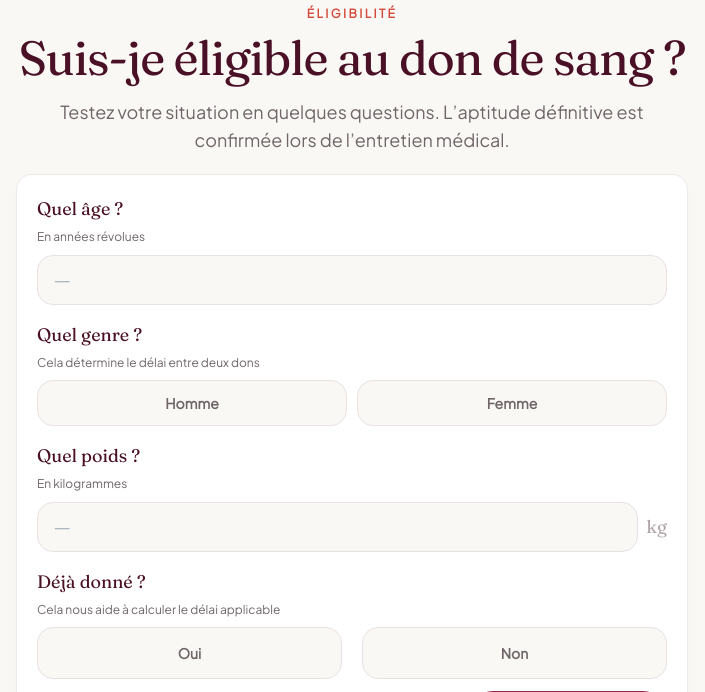
Scenario: EligibilitySimulator › demande la date si l’utilisateur a déjà donné
Type "30" into the number field labelled "Quel âge ?".
click(352, 280); type("30")  # box x1=37 y1=254 x2=667 y2=304
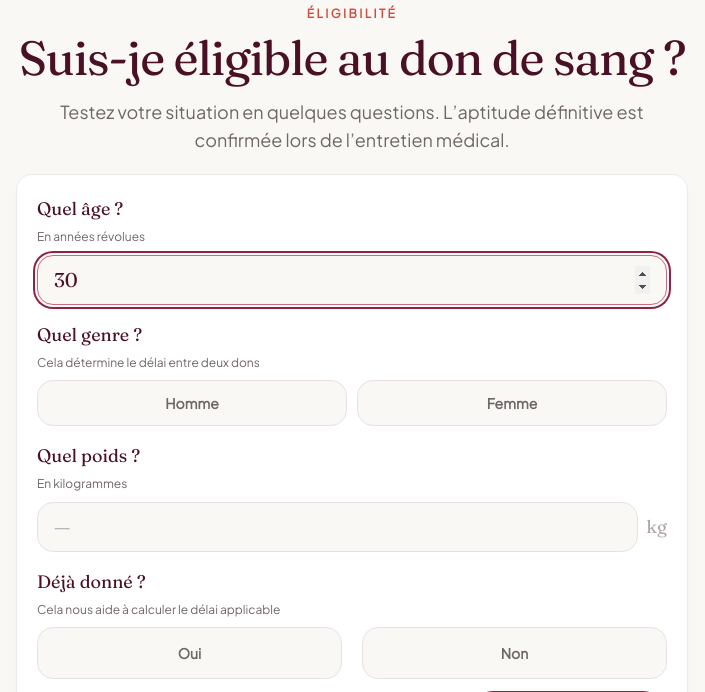
Click the button "Homme".
click(192, 403)  # box x1=37 y1=380 x2=347 y2=426
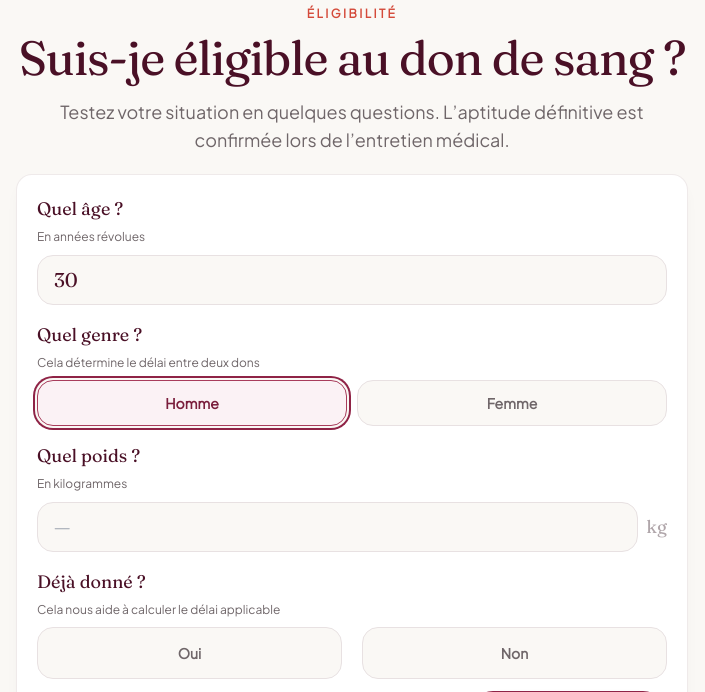
Type "70" into the number field labelled "Quel poids ?".
click(338, 526); type("70")  # box x1=37 y1=502 x2=638 y2=552
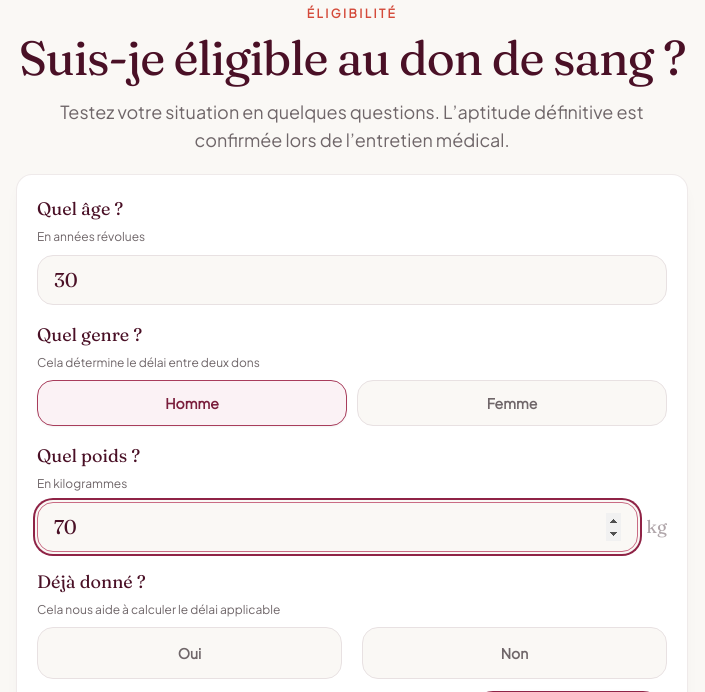
Click the button "Oui".
click(190, 653)  # box x1=37 y1=627 x2=342 y2=679
(page scrolled)
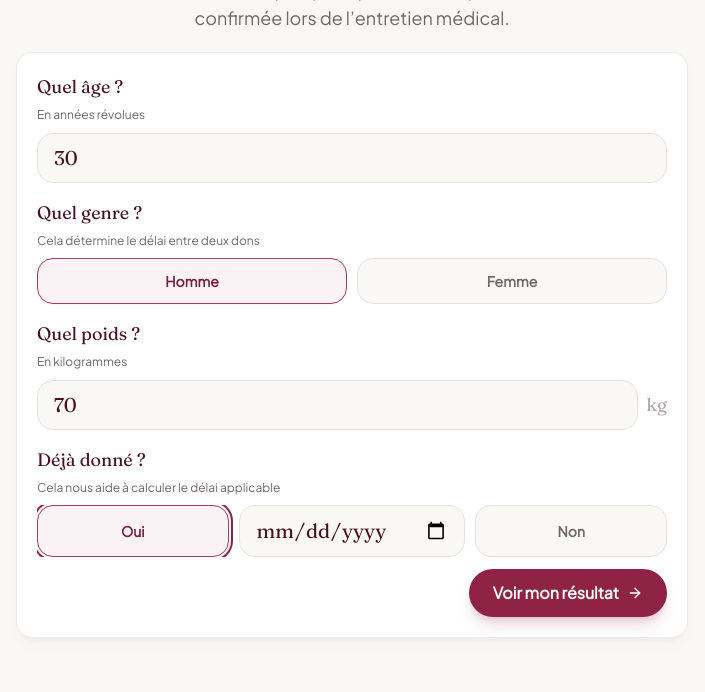
Click the button "Voir mon résultat".
click(568, 593)  # box x1=469 y1=569 x2=667 y2=617
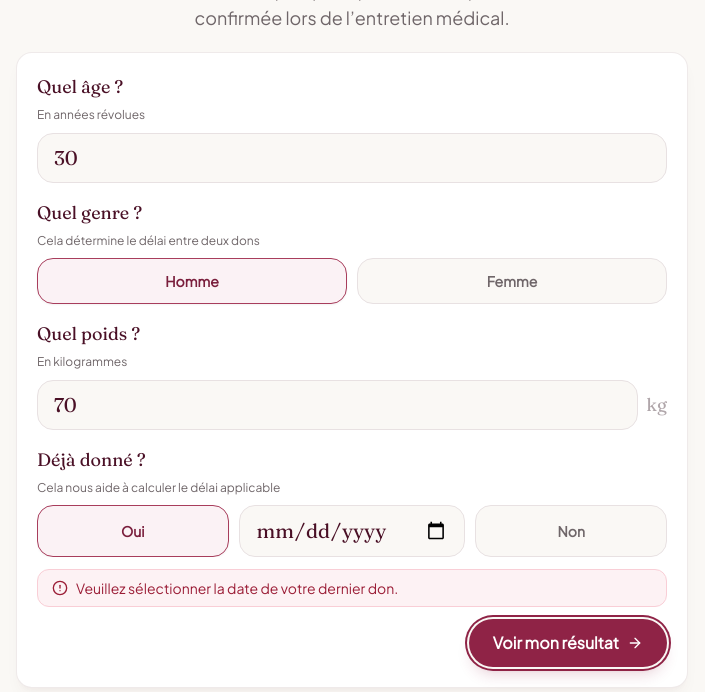
Now the message shows "date de votre dernier don", box x1=76 y1=579 x2=398 y2=597
